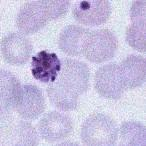Infected: (31, 50, 61, 83)
Uninfected: (85, 28, 118, 63), (82, 113, 117, 146), (1, 31, 33, 67), (58, 23, 94, 55), (95, 62, 125, 100), (39, 111, 73, 142), (62, 57, 90, 94), (47, 83, 79, 114), (73, 0, 110, 26), (16, 85, 45, 118), (119, 55, 146, 90), (16, 3, 46, 34), (117, 120, 144, 146)
